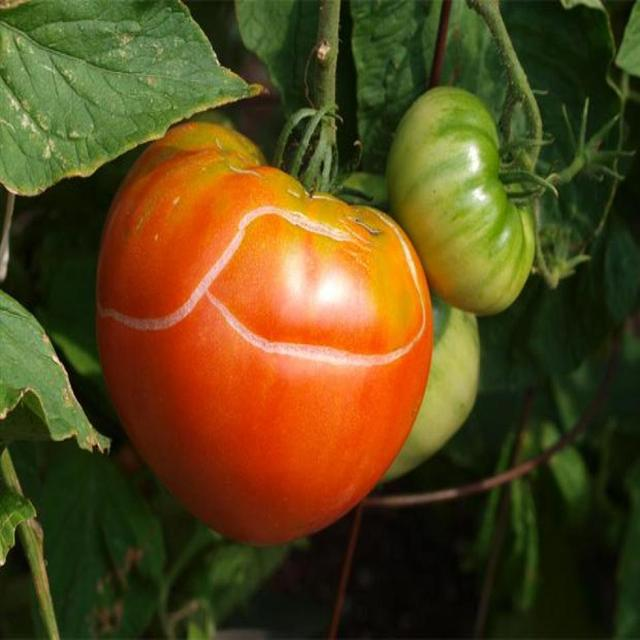Cracking Fruit: (152, 107, 203, 204)
